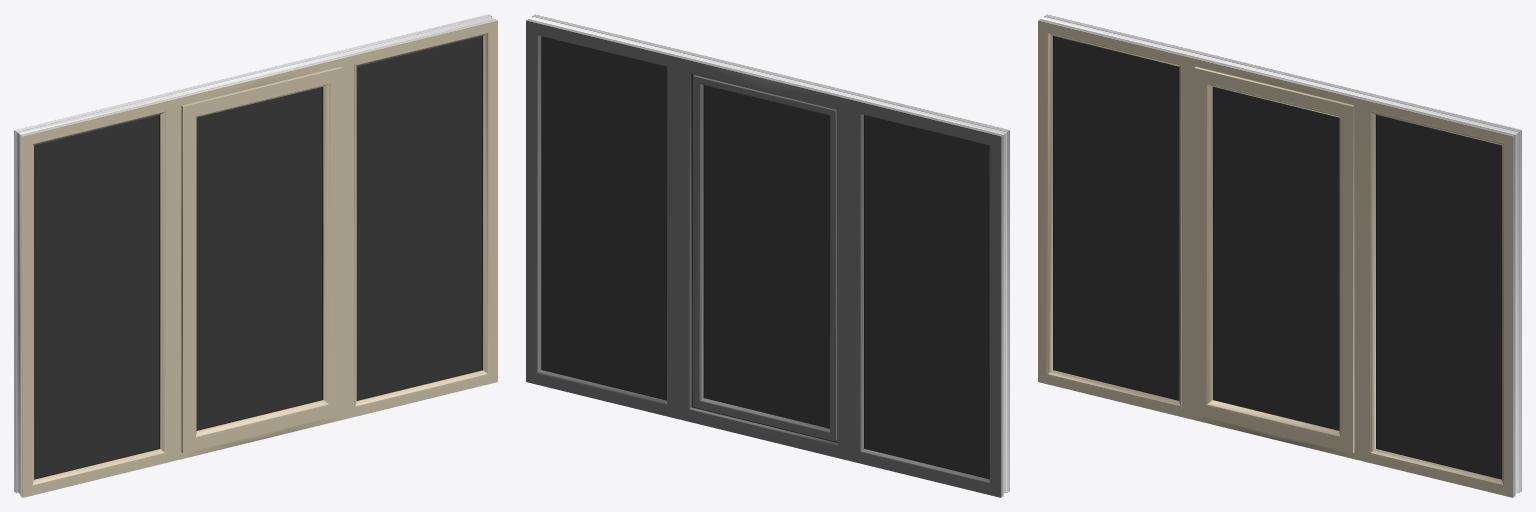
File: 8000_3_glass_1_door.fbx
The picture shows the model from 3 angles, left to right: view 1: azimuth 30°, elevation 25°; view 2: azimuth 150°, elevation 25°; view 3: azimuth 330°, elevation 25°; orthographic projection.
Visible parts, largest first — view 1: SM_extra_8000_009, SM_Window_Frame__1_door_8000_001, SM_Glass_L_005, SM_Door_Frame_8000_L_005, SM_extra_8000_004; view 2: SM_extra_8000_008, SM_Window_Frame__1_door_8000_001, SM_Glass_L_004, SM_Door_Frame_8000_L_005, SM_extra_8000_004, SM_Window_Frame__1_door_8000_002, SM_Door_Frame_8000_L_006; view 3: SM_extra_8000_009, SM_Window_Frame__1_door_8000_001, SM_Glass_L_005, SM_Door_Frame_8000_L_005, SM_extra_8000_004.
Boxes of the visible parts, left/top/right/bottom form: SM_extra_8000_009: left=34, top=36, right=482, bottom=478; SM_Window_Frame__1_door_8000_001: left=14, top=14, right=497, bottom=497; SM_Glass_L_005: left=196, top=87, right=322, bottom=429; SM_Door_Frame_8000_L_005: left=181, top=66, right=341, bottom=453; SM_extra_8000_004: left=34, top=36, right=482, bottom=479; SM_extra_8000_008: left=542, top=36, right=989, bottom=478; SM_Window_Frame__1_door_8000_001: left=526, top=14, right=1009, bottom=497; SM_Glass_L_004: left=704, top=85, right=829, bottom=427; SM_Door_Frame_8000_L_005: left=692, top=74, right=837, bottom=441; SM_extra_8000_004: left=541, top=36, right=989, bottom=479; SM_Window_Frame__1_door_8000_002: left=691, top=73, right=837, bottom=442; SM_Door_Frame_8000_L_006: left=703, top=85, right=829, bottom=428; SM_extra_8000_009: left=1053, top=36, right=1501, bottom=478; SM_Window_Frame__1_door_8000_001: left=1038, top=14, right=1521, bottom=497; SM_Glass_L_005: left=1213, top=87, right=1339, bottom=429; SM_Door_Frame_8000_L_005: left=1194, top=66, right=1354, bottom=453; SM_extra_8000_004: left=1053, top=36, right=1501, bottom=479.
Bounding box in the file's own units: 220 × 160 × 8.65.
